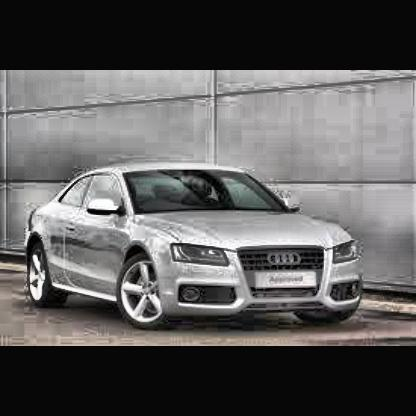Audi A5 Coupe 2012: (24, 161, 367, 334)
